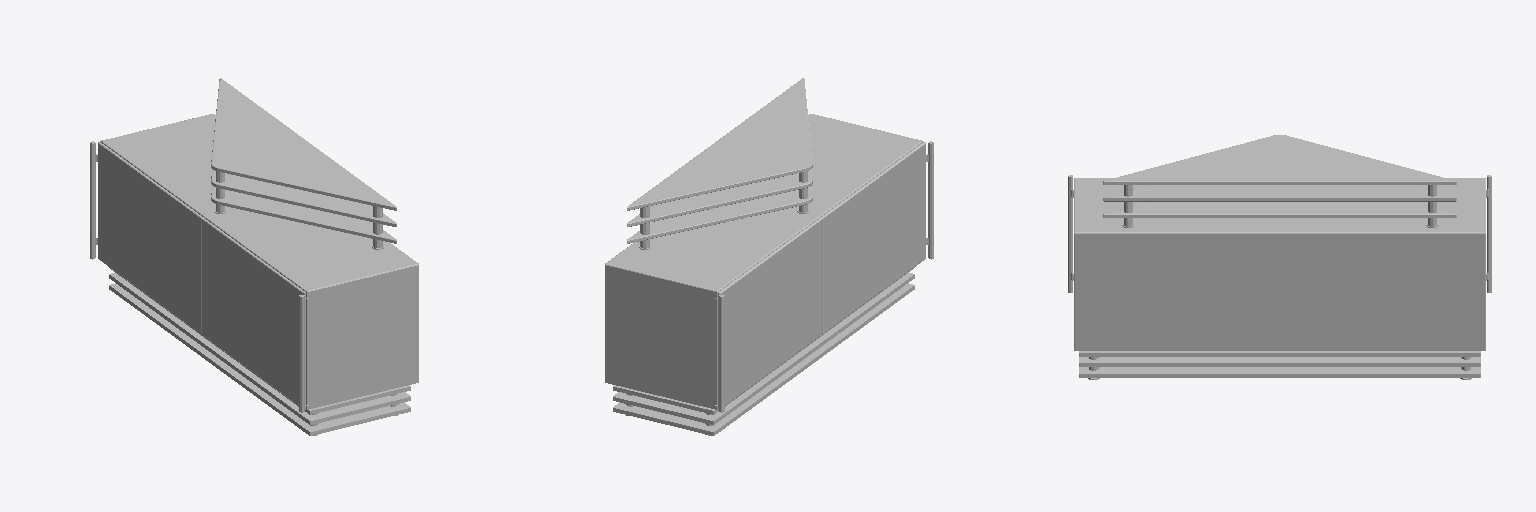
File: Stand TV.obj
3 views of the same model, side by side, from view 1: azimuth 30°, elevation 25°; view 2: azimuth 150°, elevation 25°; view 3: azimuth 270°, elevation 25° (orthographic).
Parts seen in each view (by area): view 1: part_01, part_05, pt_01_1, pt_01, pt_03_1, pt_03, part_02; view 2: part_01, part_05, pt_01, pt_01_1, pt_03, pt_03_1, part_02; view 3: part_01, part_05, part_02, pt_03, pt_03_1.
Boxes of the visible parts, <box> form: part_01: <box>100,114,418,409</box>; part_05: <box>109,78,410,435</box>; pt_01_1: <box>98,142,201,333</box>; pt_01: <box>201,217,305,409</box>; pt_03_1: <box>90,141,97,259</box>; pt_03: <box>299,295,305,412</box>; part_02: <box>215,171,397,435</box>; part_01: <box>605,114,923,409</box>; part_05: <box>613,78,914,435</box>; pt_01: <box>822,142,925,333</box>; pt_01_1: <box>718,217,822,409</box>; pt_03: <box>926,141,933,259</box>; pt_03_1: <box>718,295,724,412</box>; part_02: <box>626,171,808,435</box>; part_01: <box>1074,178,1485,350</box>; part_05: <box>1079,135,1480,377</box>; part_02: <box>1088,185,1471,379</box>; pt_03: <box>1068,175,1073,292</box>; pt_03_1: <box>1486,175,1491,292</box>.
Bounding box in the file's own units: 69.74 × 110 × 211.